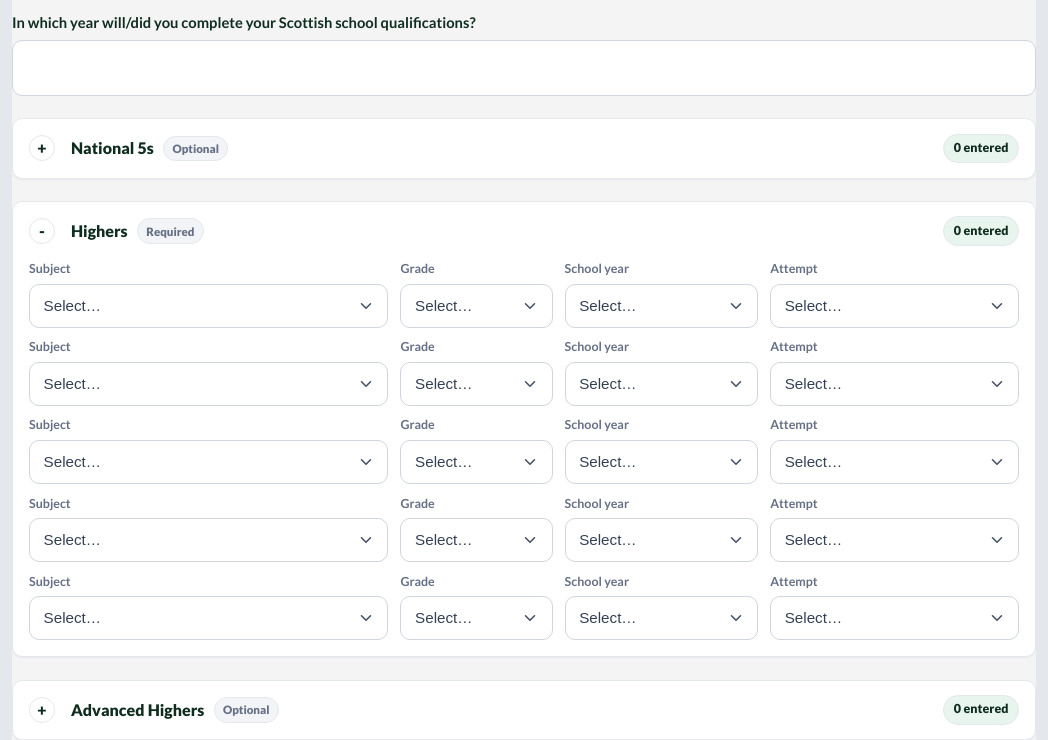
ScottishStep › provides five Higher rows and three Advanced Higher rows for Scottish profiles
The image size is (1048, 740).
(page scrolled)
Expected: the number of dropdowns labelled "Subject" is 5, [29,284,388,328]; [29,362,388,406]; [29,440,388,484]; [29,518,388,562]; [29,596,388,640]
Expected: the number of dropdowns labelled "Grade" is 5, [400,284,553,328]; [400,362,553,406]; [400,440,553,484]; [400,518,553,562]; [400,596,553,640]
Click the heading "Advanced Highers Optional 0 entered" at {"x": 138, "y": 709}, box [71,695,1019,725]
(page scrolled)
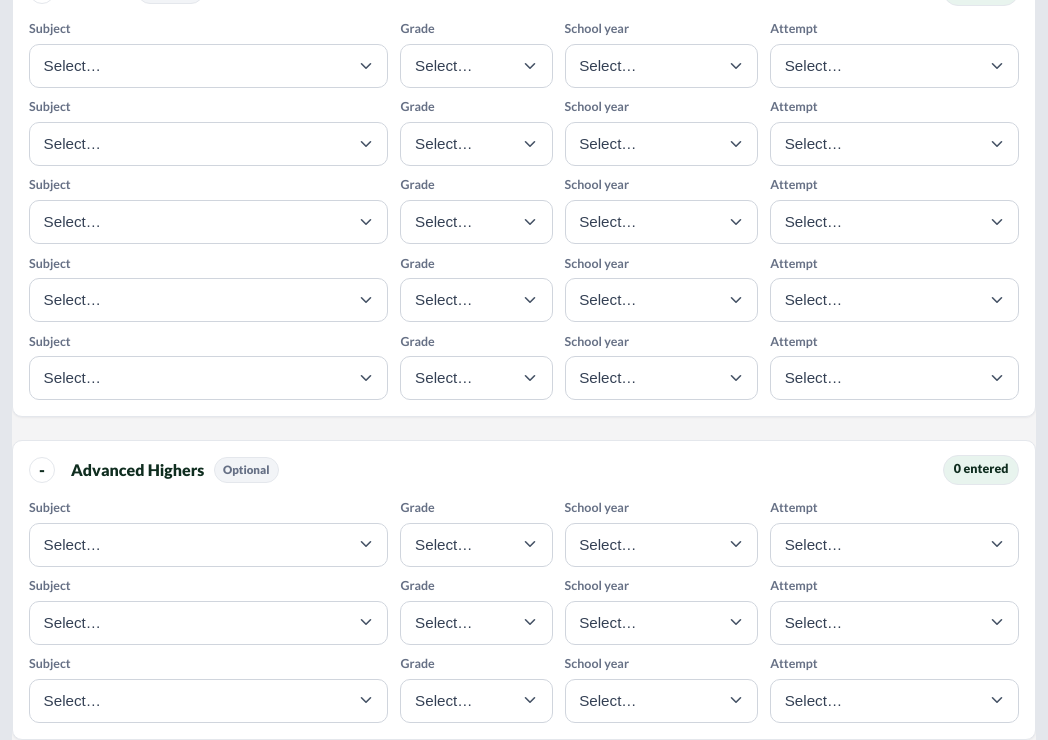
Result: the number of dropdowns labelled "Subject" is 3 at [29,522,388,567]; [29,601,388,645]; [29,679,388,723]
Result: the number of dropdowns labelled "Grade" is 3 at [400,522,553,567]; [400,601,553,645]; [400,679,553,723]
Result: the number of dropdowns labelled "School year" is 3 at [565,522,758,567]; [565,601,758,645]; [565,679,758,723]
